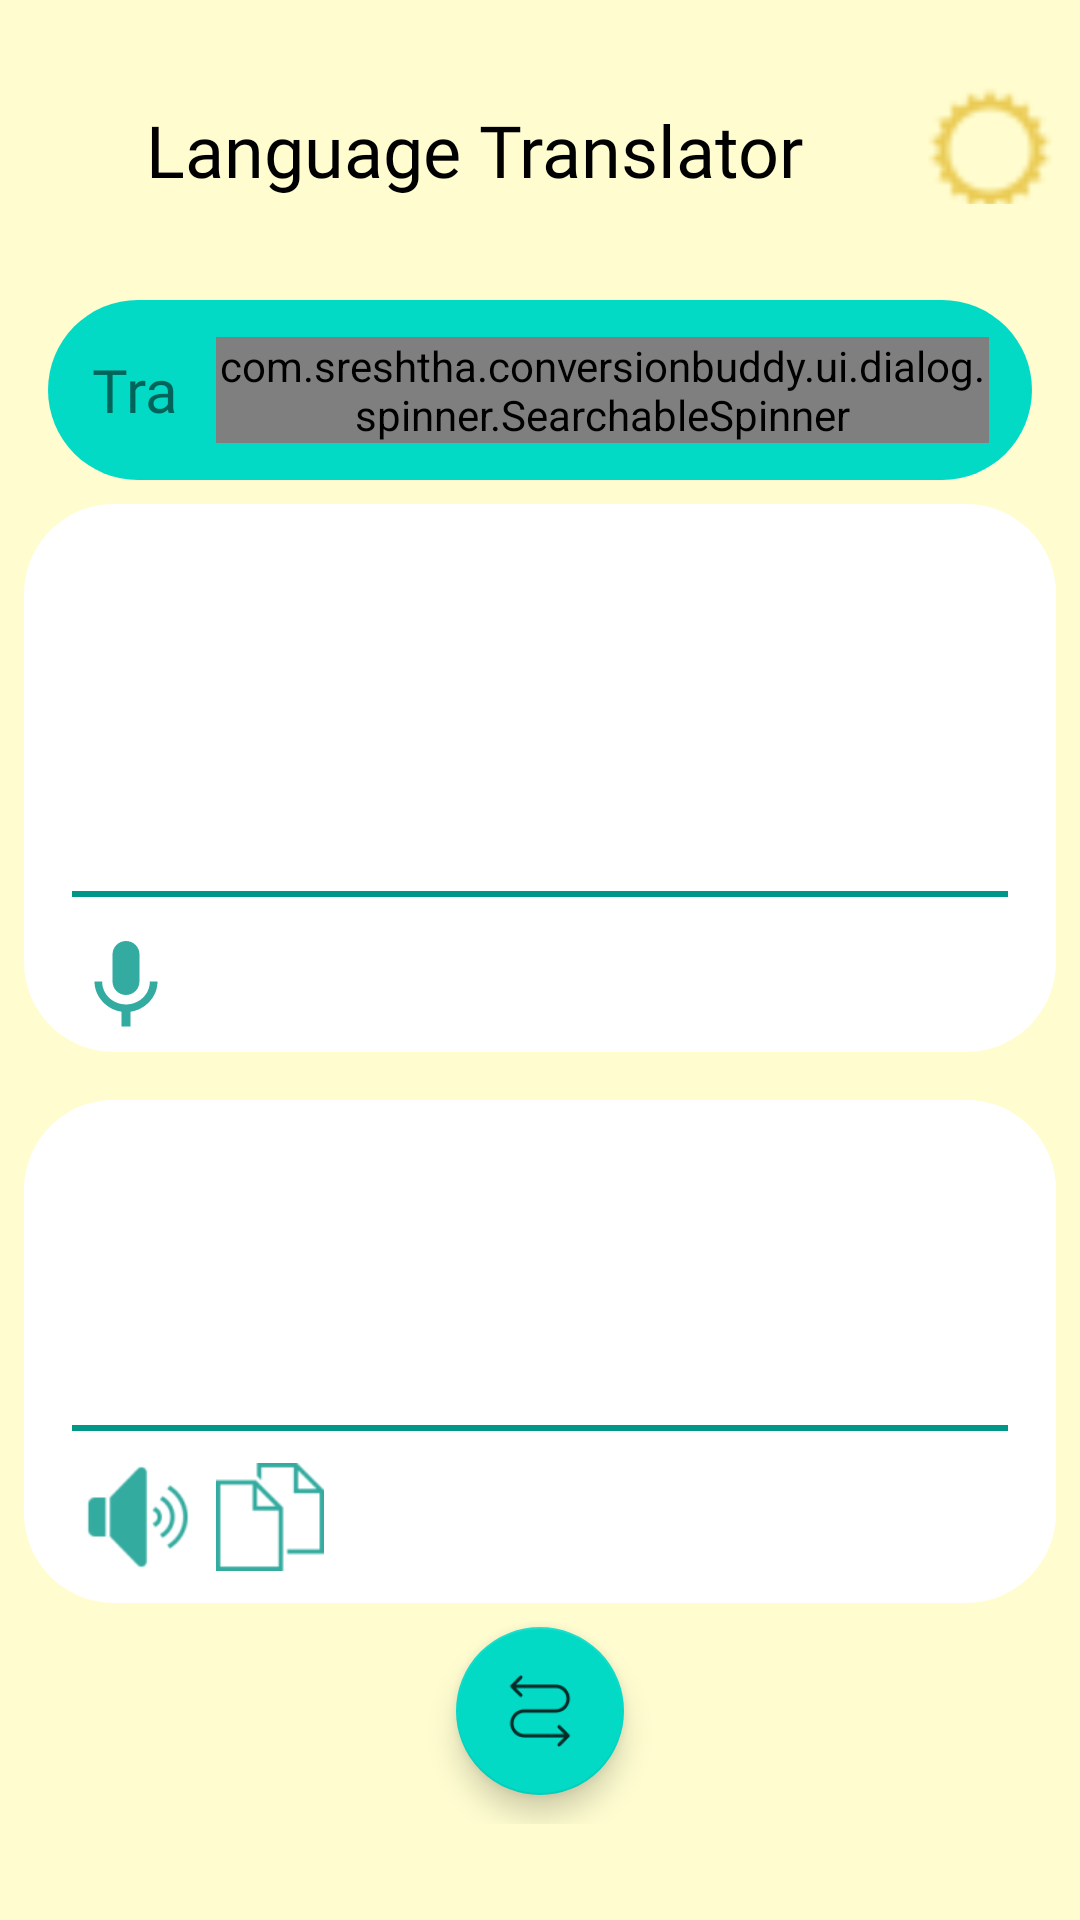

Icon bounding boxes for this 1080w x 1920h phone screenshot, format rect(x1, y1, x2, y2):
clipboard: rect(216, 1463, 324, 1571)
mic: rect(94, 941, 158, 1027)
speaker: rect(88, 1467, 188, 1567)
theme change: rect(930, 90, 1050, 204)
translate swap: rect(456, 1627, 624, 1795)
